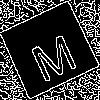M: (24, 24, 80, 84)
